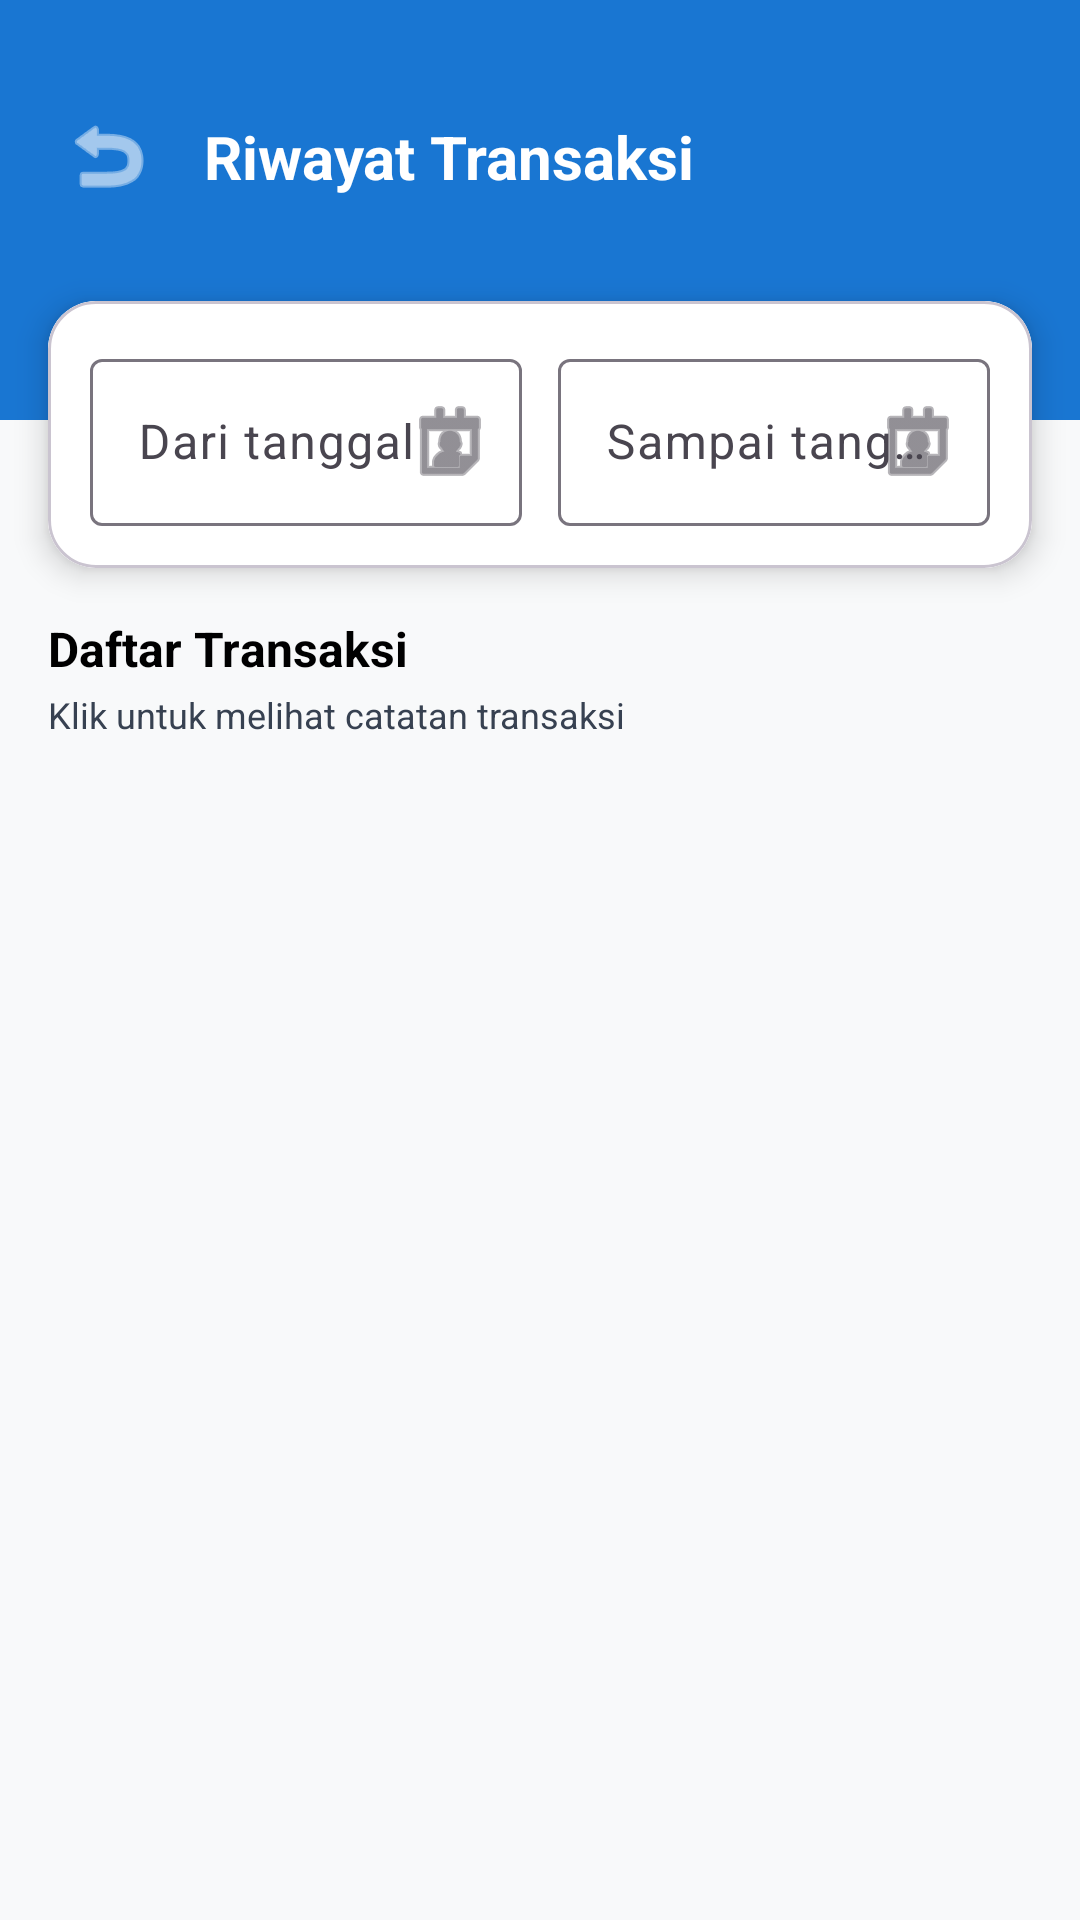

Named icons in this screenshot (1080 x 1920) and their centers, [x,y]:
revert: [109,156]
